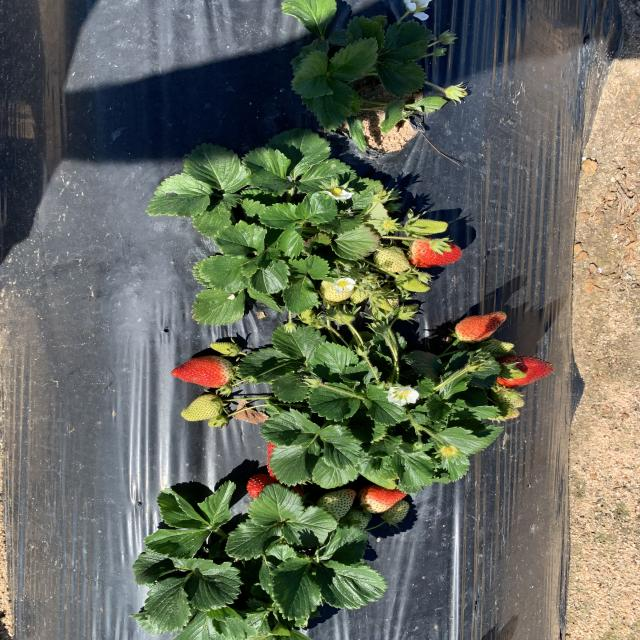unripe: (265, 435, 322, 479), (170, 357, 234, 388), (246, 474, 304, 506), (496, 355, 556, 385), (409, 239, 462, 268), (458, 310, 508, 340), (362, 482, 410, 513)
